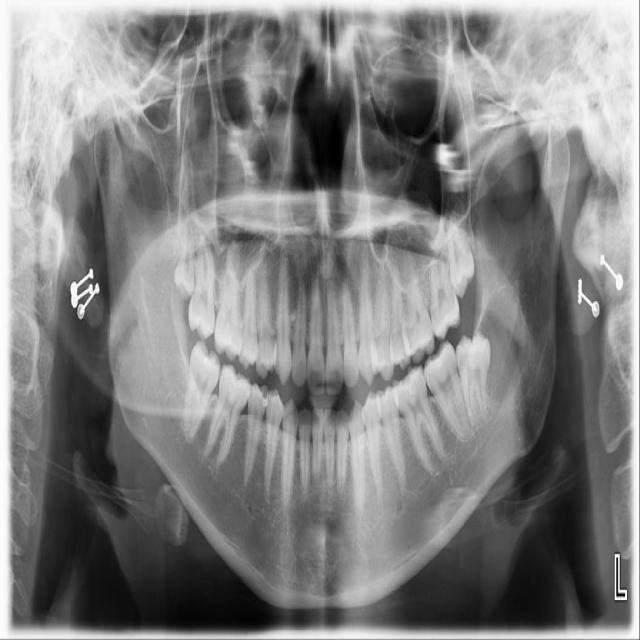3M ESPE Implant: (174, 223, 195, 302)
52: (380, 359, 440, 416)
73: (622, 612, 630, 620)
BioHorizons Implant: (422, 217, 462, 343)
BioLife Implant: (444, 210, 477, 298)
Biomet 3i Implant: (455, 330, 491, 426)
Blue Sky Bio Implant: (417, 338, 473, 445)
Caries: (188, 231, 215, 341)
Implant: (180, 338, 224, 443)
